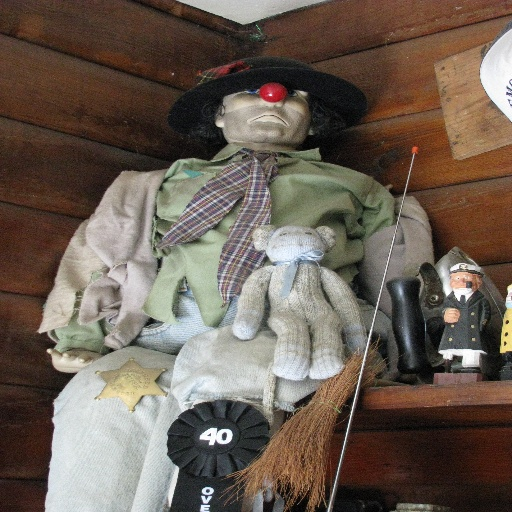hand: (44, 345, 107, 373), (442, 307, 460, 324)
